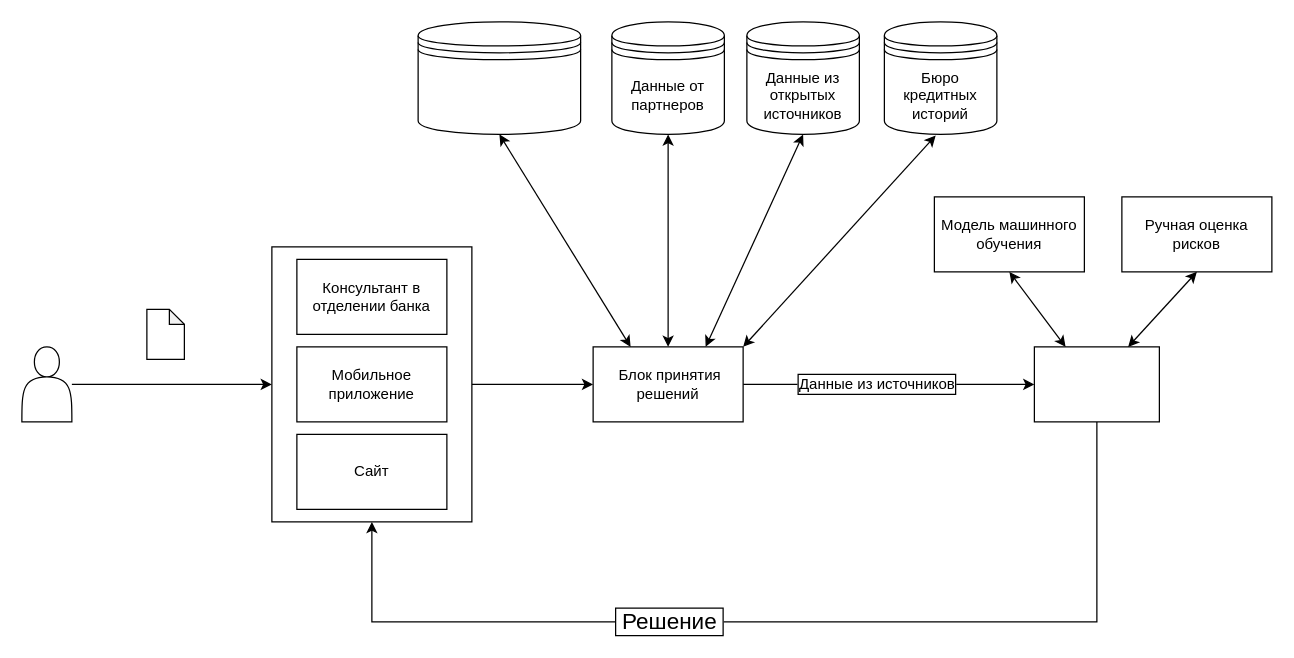
Image size: 1294x658. Some labels were removed from this diagram. The centre of each missing label's shape, as x and y in pixels:
"Автоматизированная банковская система" belongs at point 499,77.
"Аналитический блок" belongs at point 1096,384.
"Заявление" belongs at point 165,333.
"Клиент" belongs at point 46,384.
